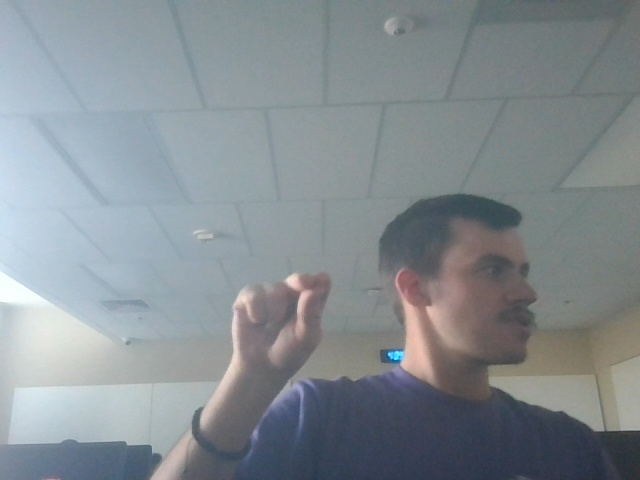no: (218, 262, 338, 385)
